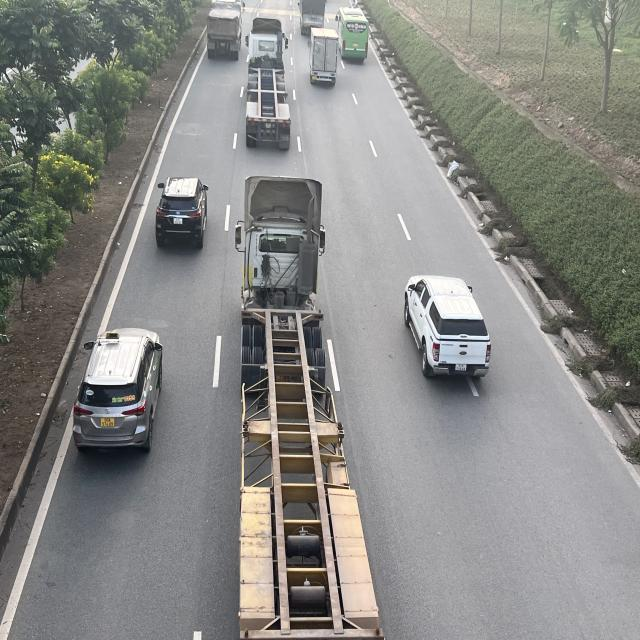car: (73, 327, 166, 451), (403, 275, 494, 378), (153, 175, 208, 248)
coach: (337, 6, 371, 63)
container: (235, 174, 385, 640), (244, 19, 291, 148), (206, 0, 245, 60)
truck: (307, 28, 341, 86), (299, 0, 325, 33)
